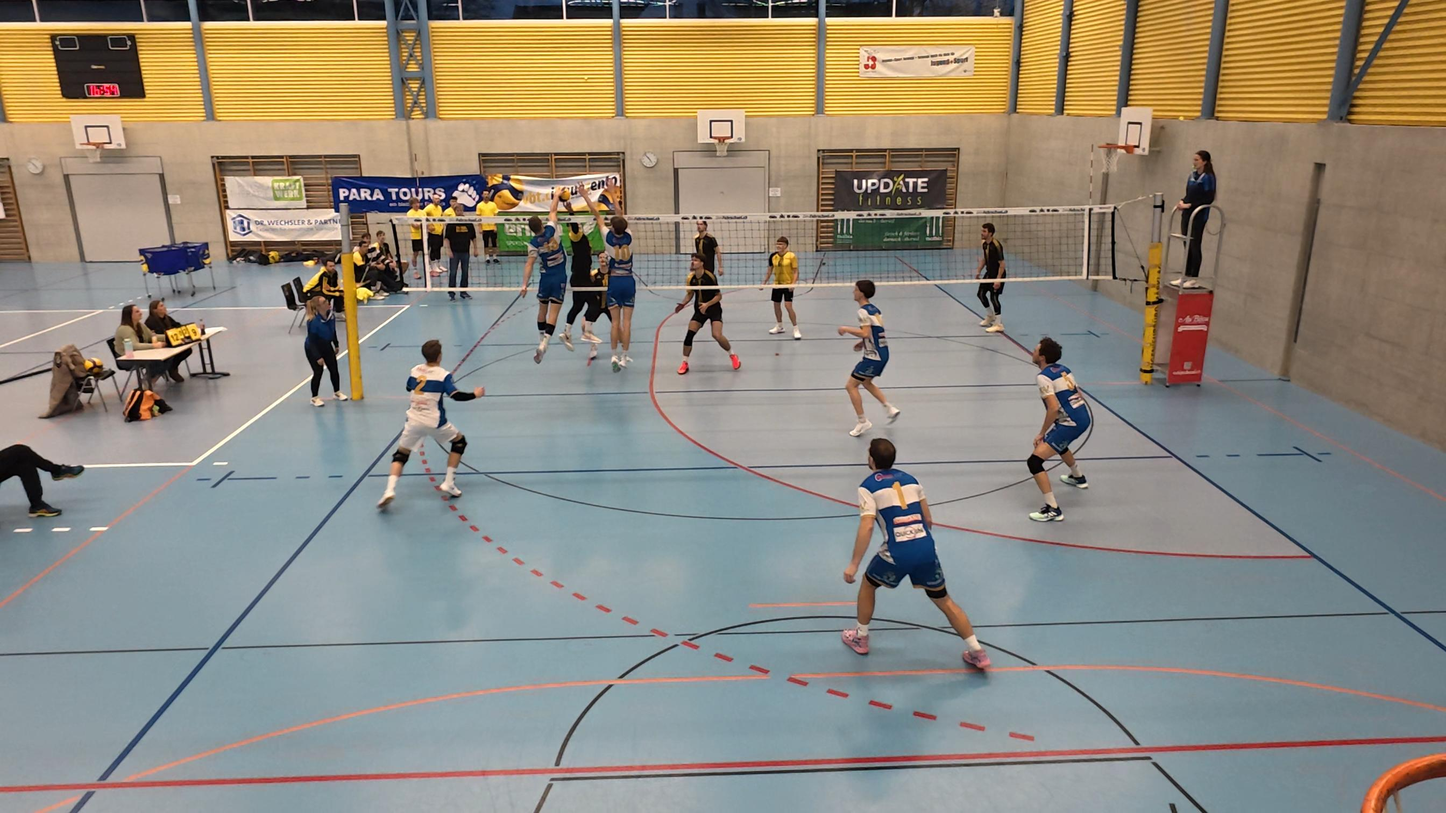Attack: (559, 186, 601, 369)
Block: (594, 187, 642, 373), (529, 180, 572, 363)
Player: (841, 439, 989, 669), (375, 338, 485, 510), (1025, 338, 1092, 522), (840, 279, 898, 438), (677, 258, 745, 374), (573, 245, 624, 350), (682, 216, 720, 328), (764, 239, 804, 341), (975, 225, 1007, 337)
ball: (553, 181, 574, 208)
